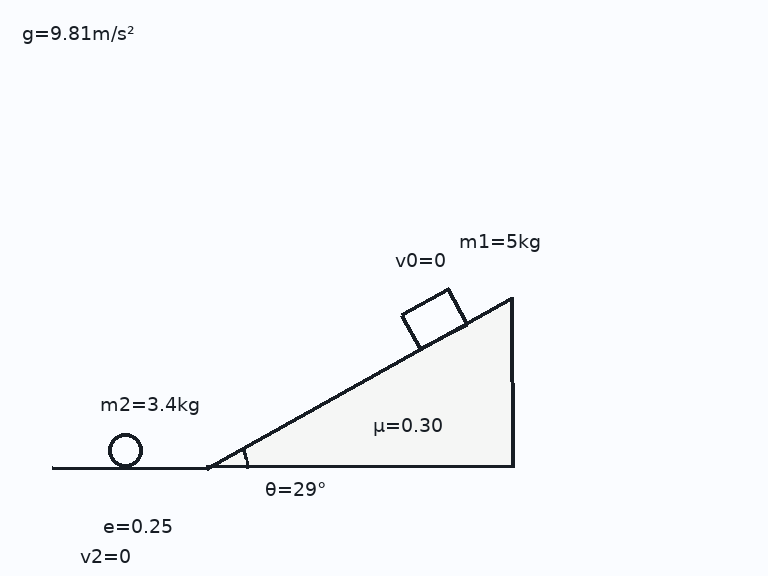ball: (106, 431, 144, 469)
block: (399, 287, 469, 351)
ramp: (205, 296, 513, 469)
